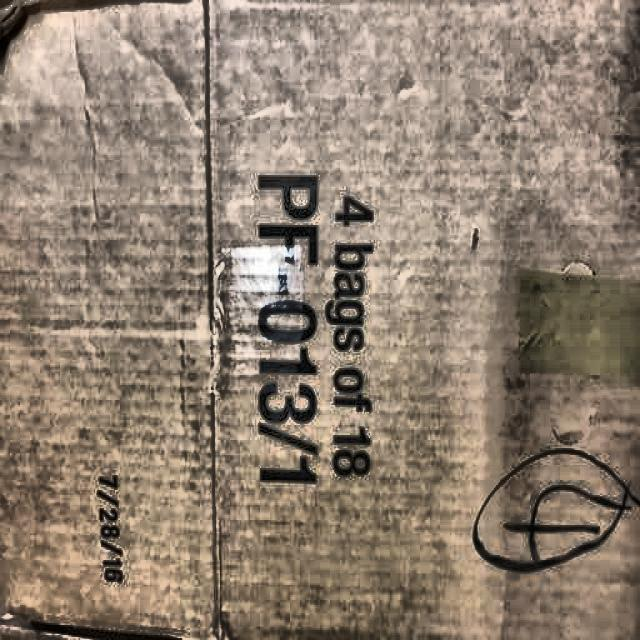cardboard: (19, 23, 593, 612)
